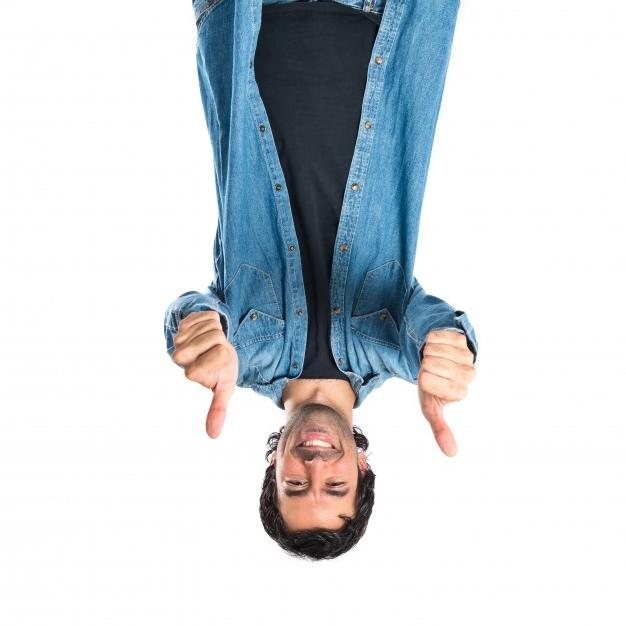thumbsdown: (171, 311, 231, 439), (418, 329, 476, 458)
